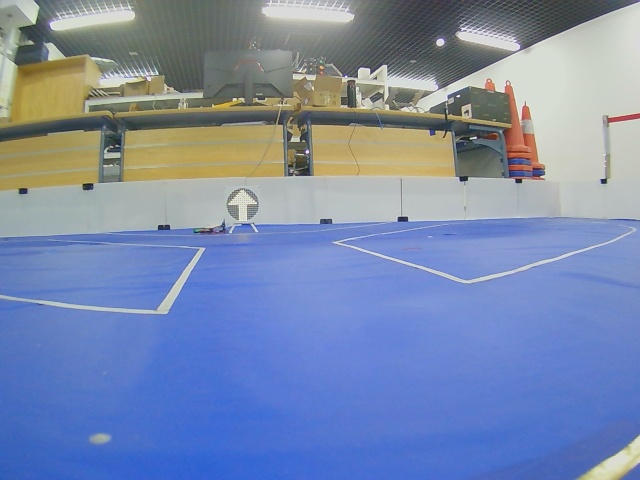straight_yellow: (227, 188, 259, 222)
